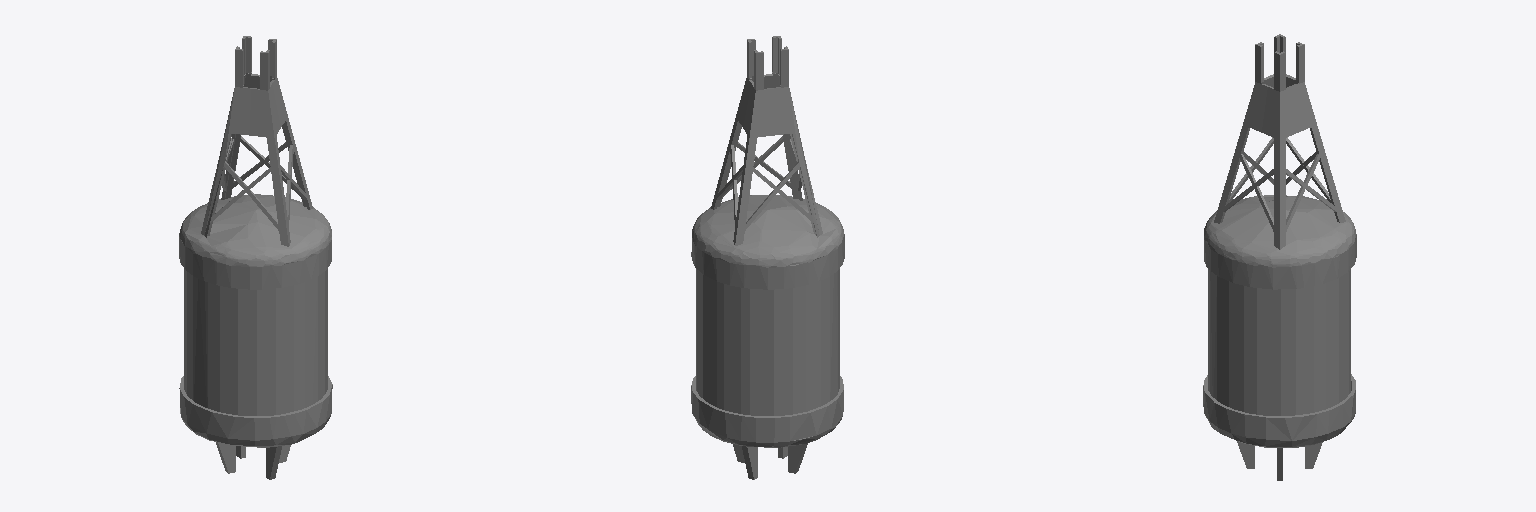
File: buoy2.obj
3 renders of one model, left to right at view 1: azimuth 30°, elevation 25°; view 2: azimuth 150°, elevation 25°; view 3: azimuth 270°, elevation 25°, orthographic.
Parts seen in each view (by area): view 1: Buoy; view 2: Buoy; view 3: Buoy.
Part boxes in pixels (x1,y1,x2,y2): Buoy: (179,36,332,479); Buoy: (691,36,844,479); Buoy: (1203,34,1356,480).
Bounding box in the file's own units: 1.51 × 4.62 × 1.52.